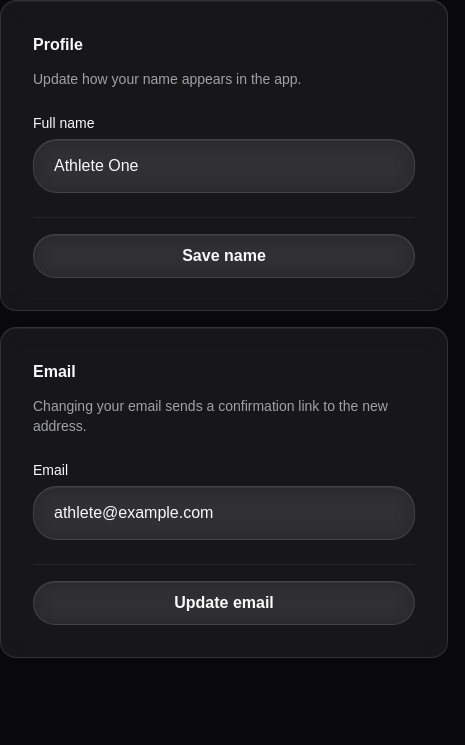
Scenario: AthleteProfileSettings › shows email errors from the server action
The image size is (465, 745).
Click the button "Update email": (224, 603) 33,581 -> 415,625
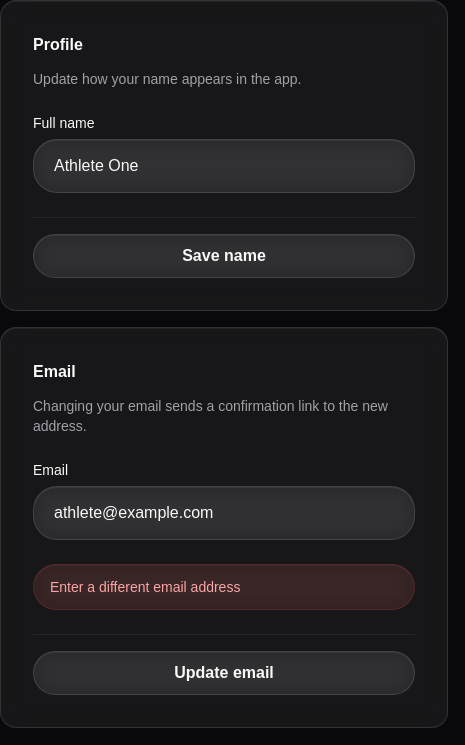
Expected: the text "Enter a different email address" is shown, 33,564 -> 415,610
